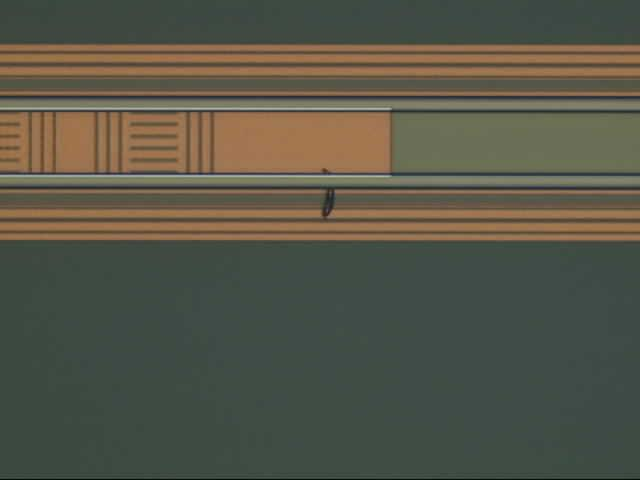PIQ PARTICLE: (313, 165, 341, 218)
